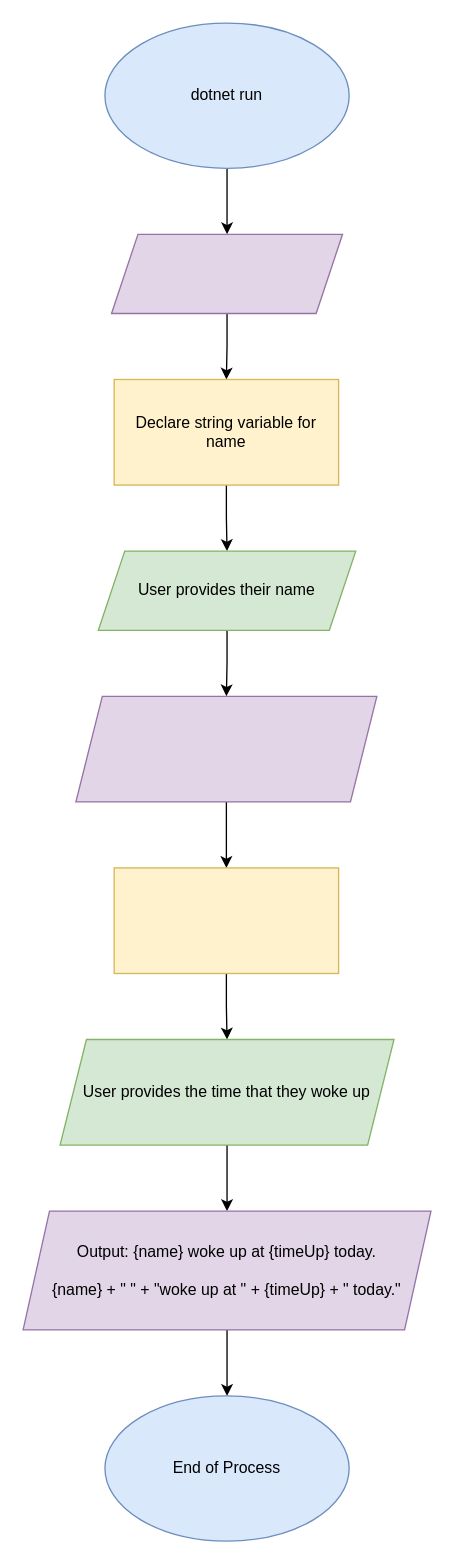
This 454x1564 diagram has some shape labels left out. Each missing label, with the centre of its shape:
"Declare string variable for timeUp" belongs at (x=226, y=920).
"What is your name?" belongs at (x=226, y=273).
"What time did you wake up today?" belongs at (x=226, y=748).
